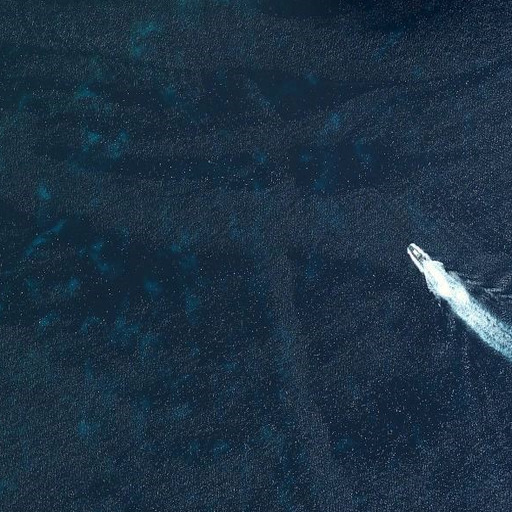ship: (405, 242, 431, 271)
